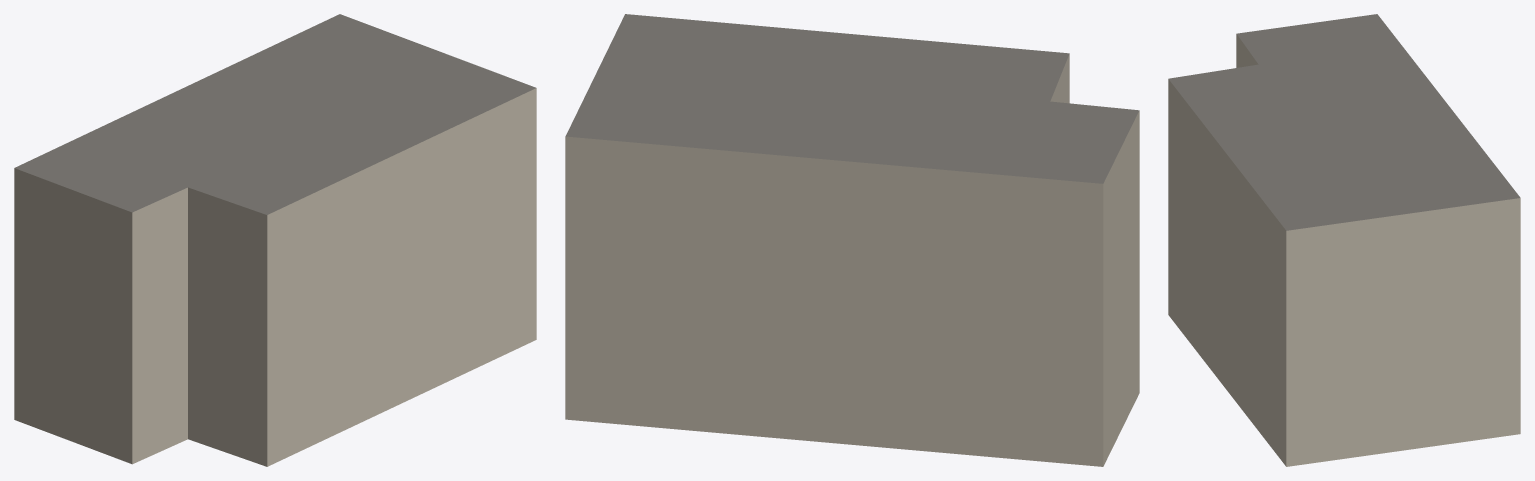
The picture shows the model from 3 angles, left to right: view 1: azimuth 30°, elevation 25°; view 2: azimuth 150°, elevation 25°; view 3: azimuth 270°, elevation 25°; orthographic projection. The views are drawn at different scales.
Parts seen in each view (by area): view 1: HP-w446934342; view 2: HP-w446934342; view 3: HP-w446934342.
Boxes of the visible parts, x1,y1,x2,y2 form: HP-w446934342: (14, 14, 536, 466); HP-w446934342: (565, 14, 1139, 466); HP-w446934342: (1168, 14, 1520, 466).
Bounding box in the file's own units: 35.45 × 18 × 24.35.
